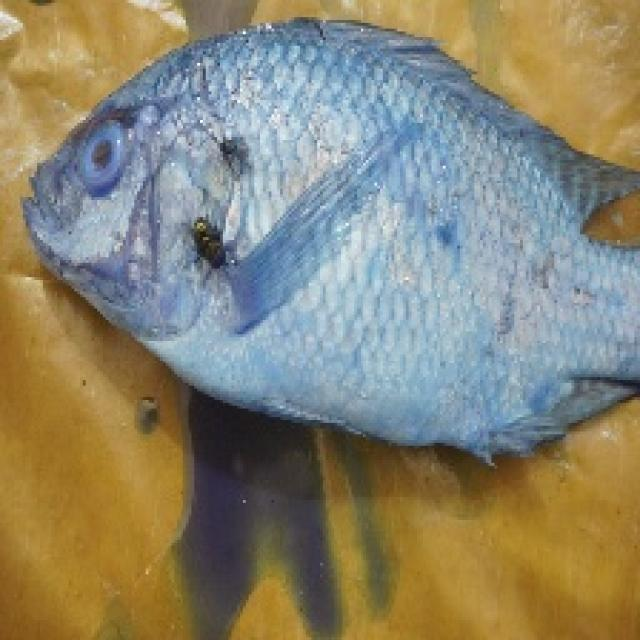Non-Fresh: (16, 18, 511, 420), (68, 111, 143, 197)
